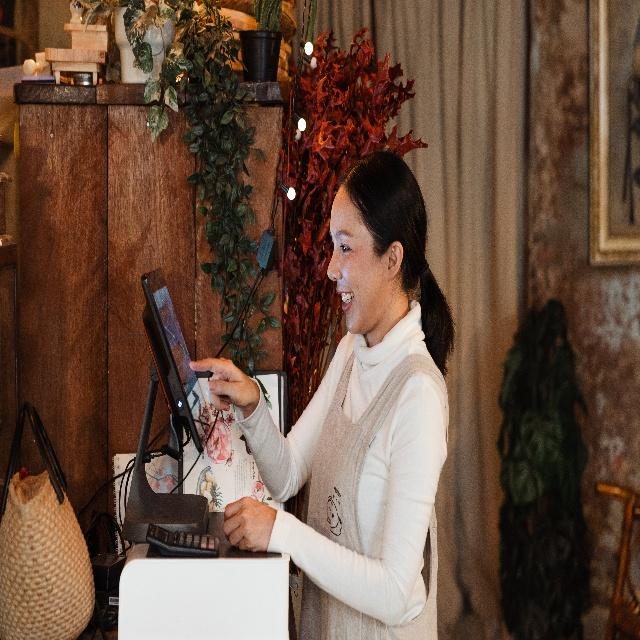Sin_guantes: (189, 349, 257, 416), (224, 497, 277, 556)
